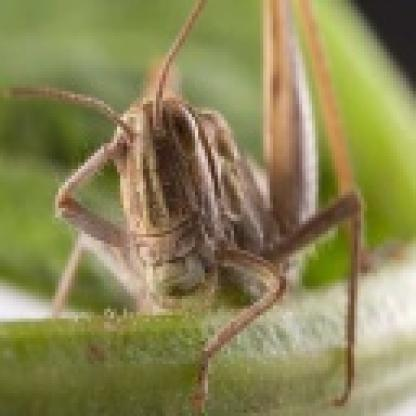grasshopper: (2, 4, 390, 416)
